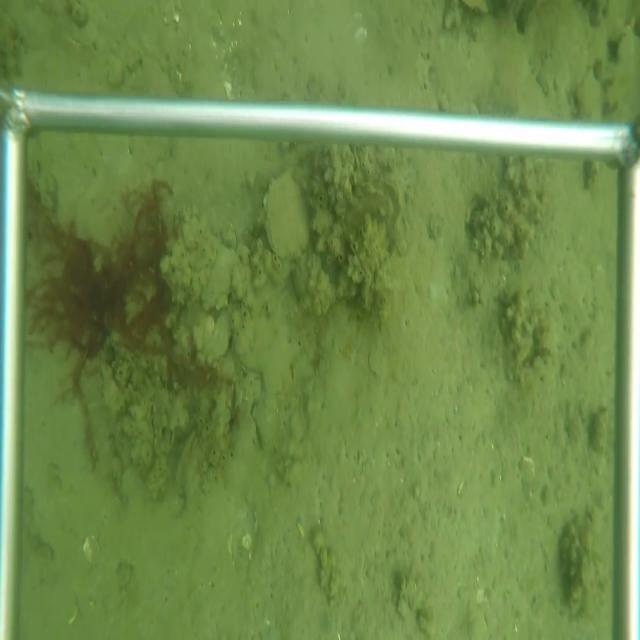Oyster-Closed: (261, 167, 312, 266), (231, 333, 263, 382), (148, 401, 162, 461)
